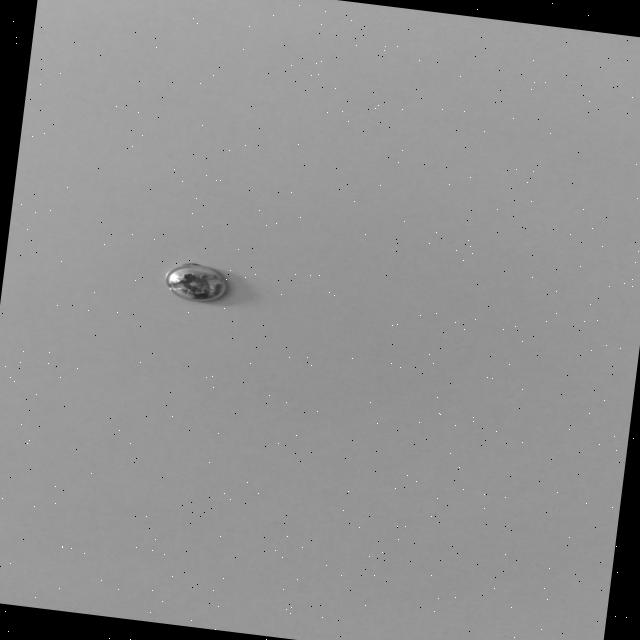Pozidriv: (150, 262, 246, 310)
